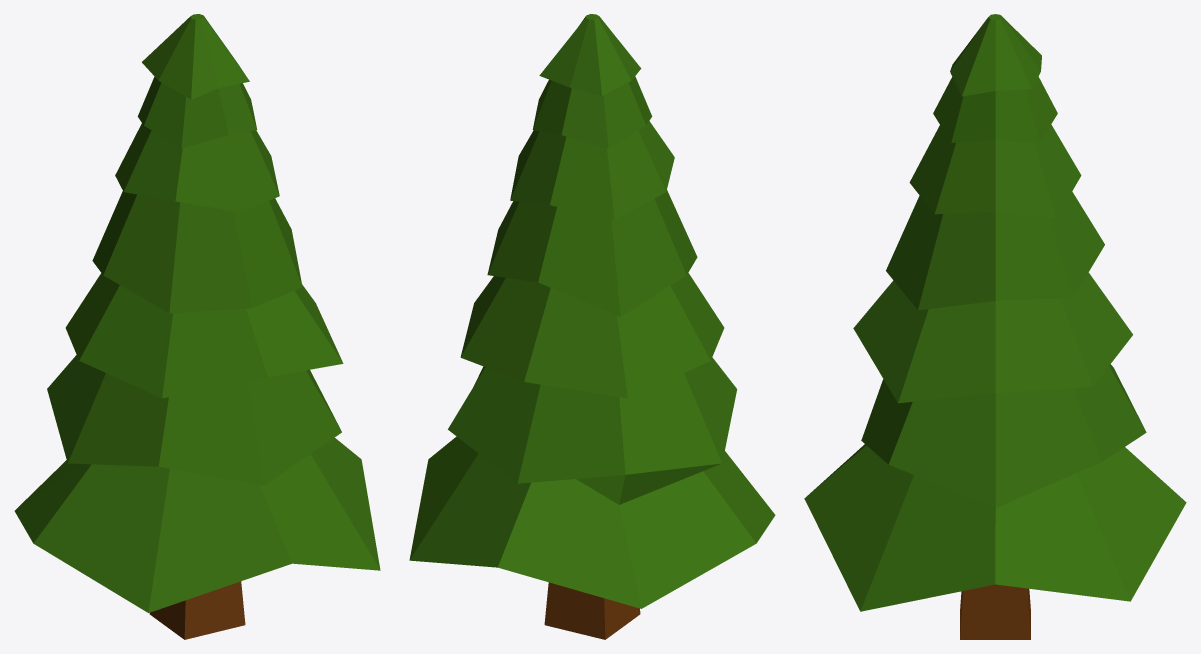
Rendered from tree8.fbx.
3 views of the same model, side by side, from view 1: azimuth 30°, elevation 25°; view 2: azimuth 150°, elevation 25°; view 3: azimuth 270°, elevation 25° (orthographic).
Visible parts, largest first — view 1: Cylinder, Cube; view 2: Cylinder, Cube; view 3: Cylinder, Cube.
Part boxes in pixels (x1=…): Cylinder: x1=14, y1=14, x2=380, y2=612; Cube: x1=149, y1=581, x2=245, y2=639; Cylinder: x1=409, y1=14, x2=775, y2=608; Cube: x1=544, y1=582, x2=640, y2=639; Cylinder: x1=804, y1=14, x2=1186, y2=611; Cube: x1=960, y1=584, x2=1030, y2=639.
Size of the model in its own units: 367 by 645 by 367.
